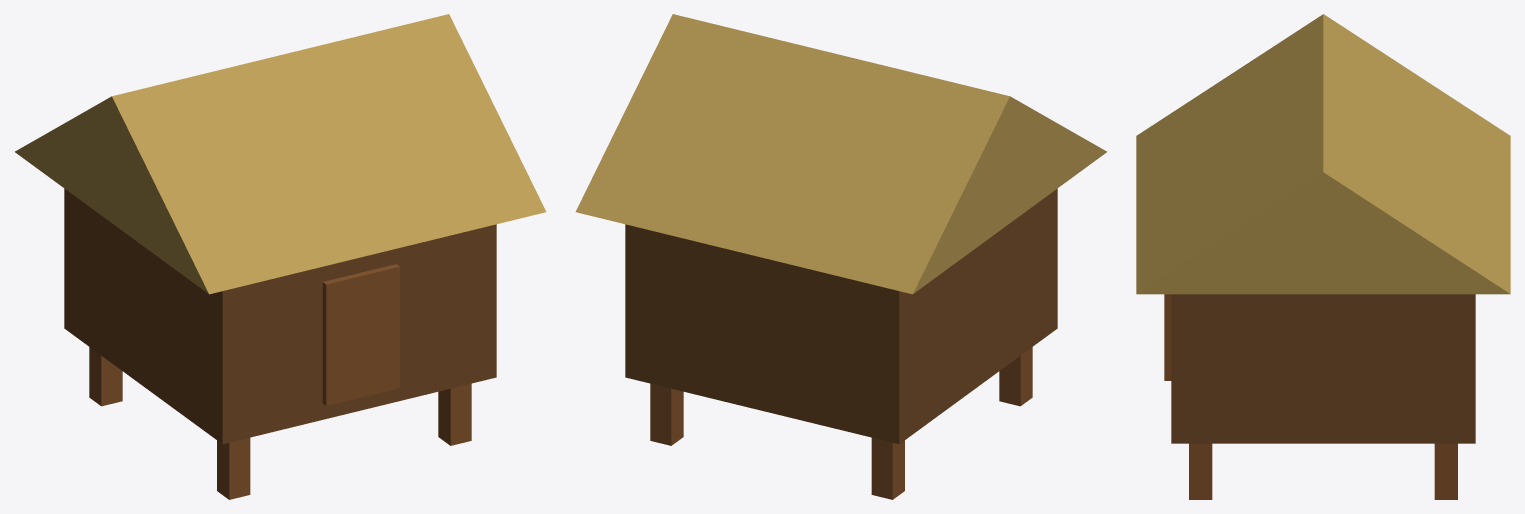
Rendered from v_storehouse.glb.
The picture shows the model from 3 angles, left to right: view 1: azimuth 30°, elevation 25°; view 2: azimuth 150°, elevation 25°; view 3: azimuth 270°, elevation 25°; orthographic projection. The views are drawn at different scales.
Parts seen in each view (by area): view 1: storehouse; view 2: storehouse; view 3: storehouse.
Boxes of the visible parts, box(x1,y1,x2,y2) form: storehouse: box(15, 14, 546, 499); storehouse: box(575, 14, 1106, 499); storehouse: box(1136, 14, 1510, 499).
Size of the model in its own units: 3.2 by 3.3 by 3.2.
